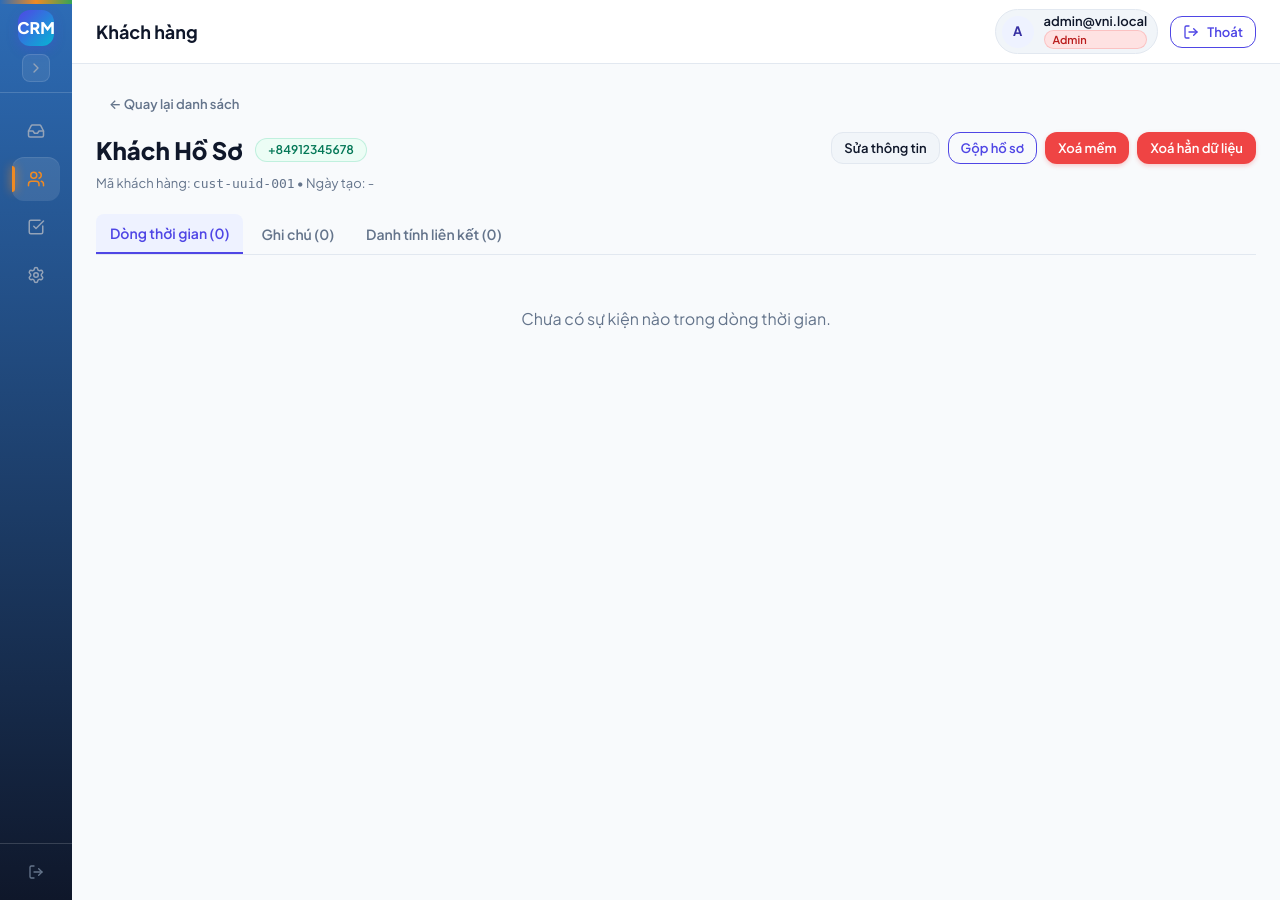
Test: F1 — route /customers/:id (App thật) › vào thẳng /customers/:id (refresh) mở hồ sơ; Quay lại về danh sách /customers
Expected: the heading with test id "profile-display-name" reads "Khách Hồ Sơ", [96,135,243,165]
What coordinates should you click on to do the following:
click the button with test id "btn-profile-back"
I would click on:
 (174, 104)
Its box is [96,88,252,120].
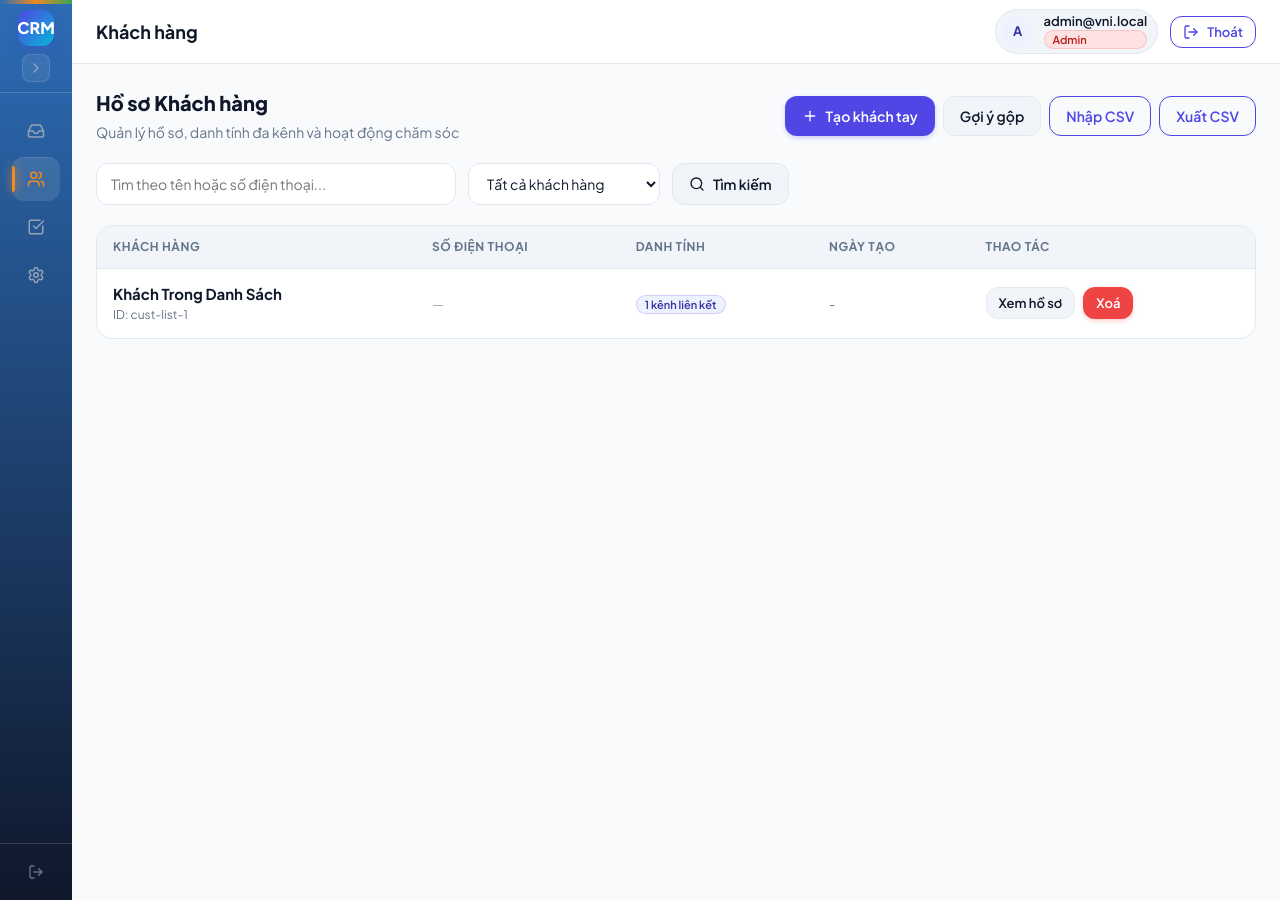
Expected: the row with test id "customer-row-cust-list-1" is shown, [97,268,1255,338]
